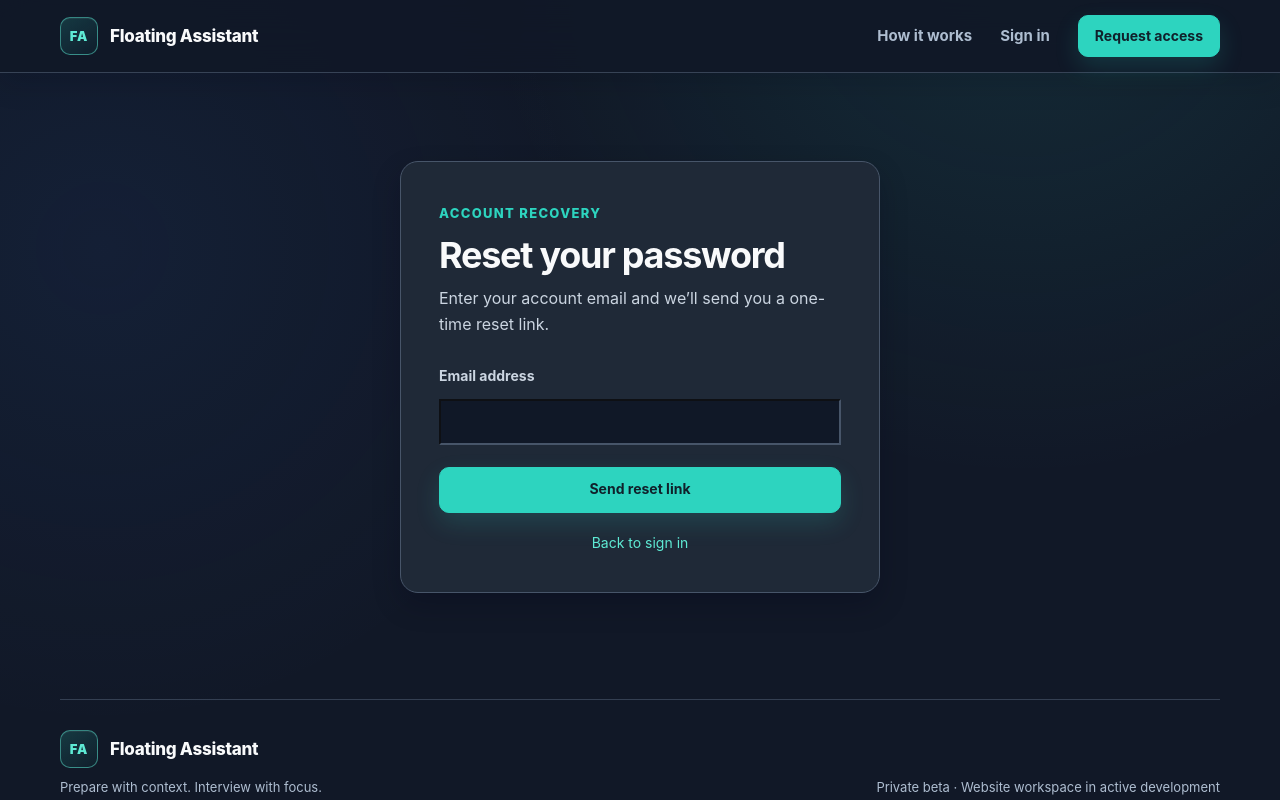
website routing and authentication › uses a generic forgot-password result
The image size is (1280, 800).
In the field labelled "Email address": (640, 422) left=439, top=399, right=841, bottom=445, type "candidate@example.com"
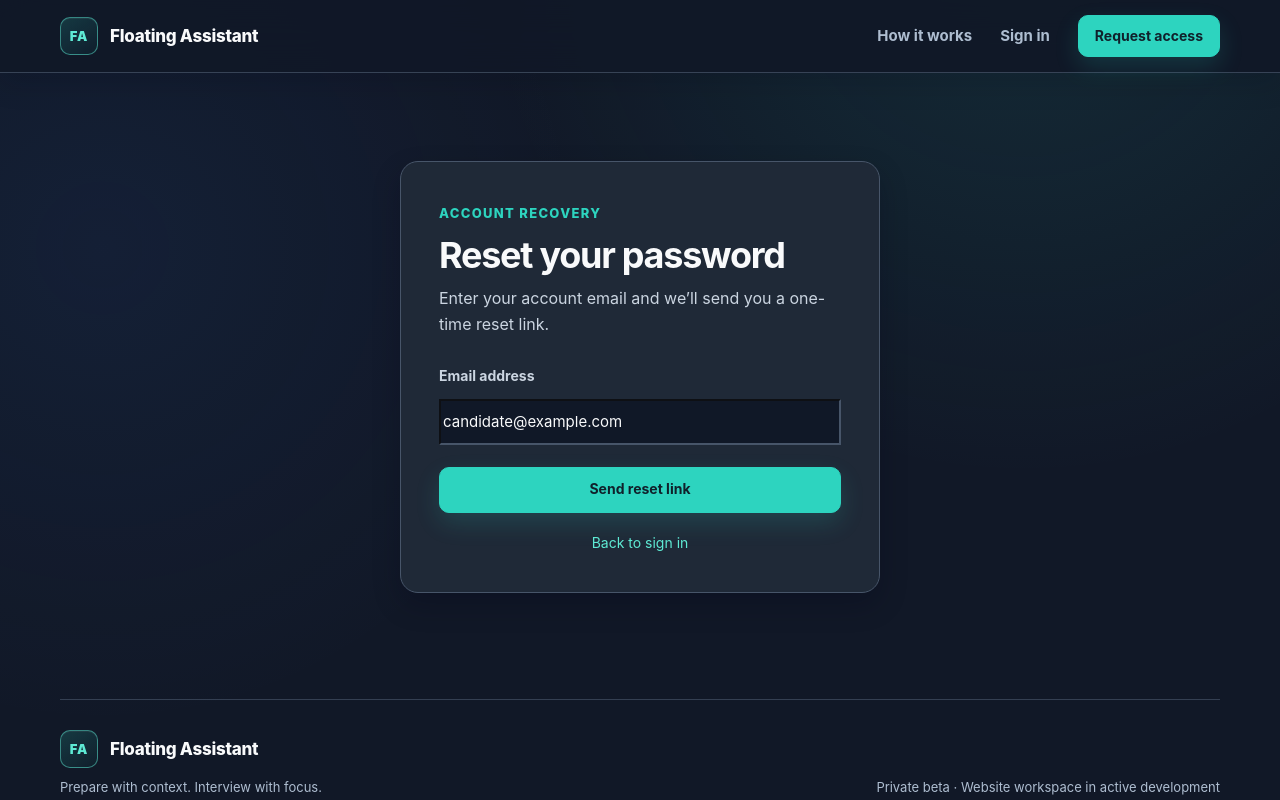
Click the button "Send reset link": (640, 490) left=439, top=467, right=841, bottom=513
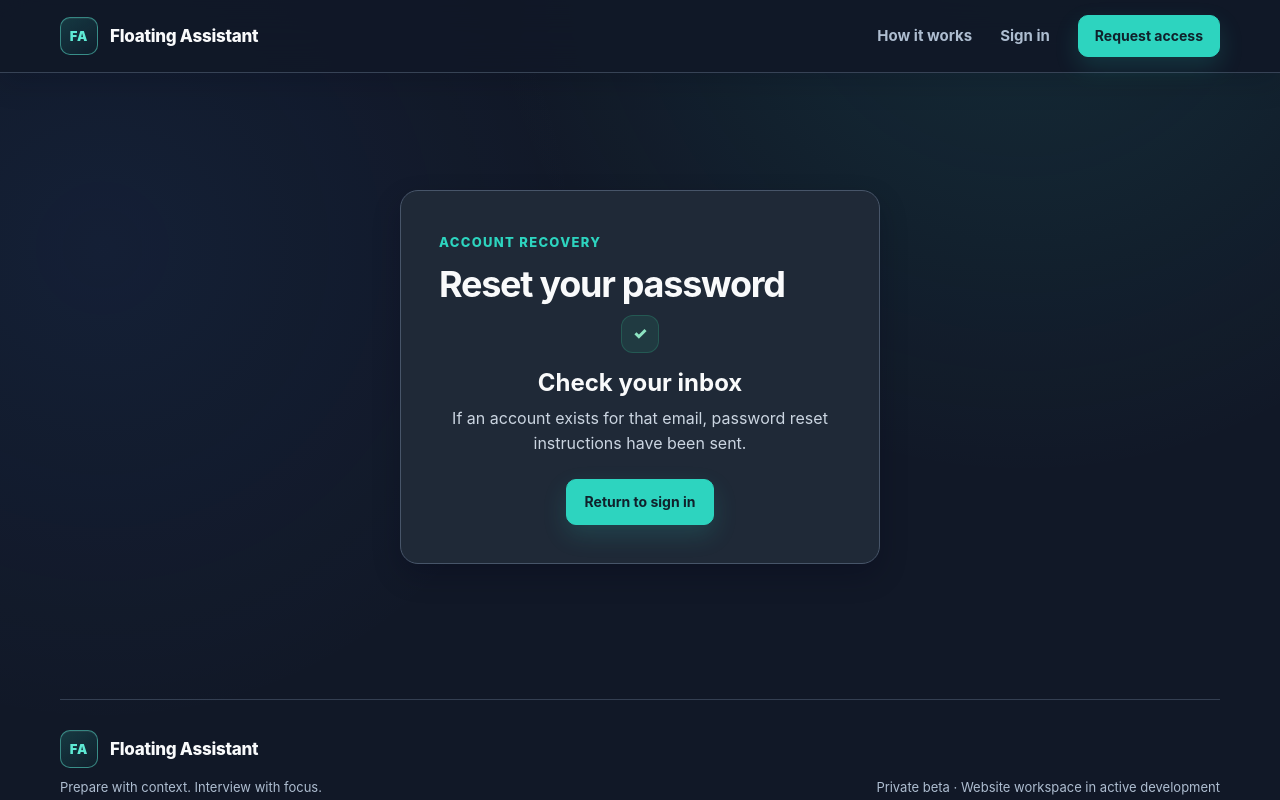
Check: the heading "Check your inbox" is shown, box left=538, top=368, right=742, bottom=397
Check: the text "If an account exists" is shown, box left=452, top=408, right=828, bottom=453
